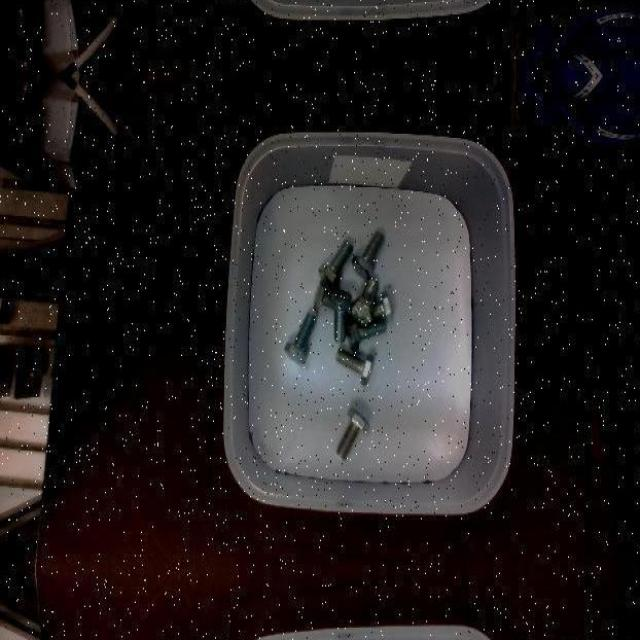screw: (283, 311, 316, 364), (336, 406, 369, 458), (318, 240, 352, 289), (352, 230, 386, 278), (334, 348, 374, 386), (350, 278, 378, 324), (330, 290, 351, 344)
